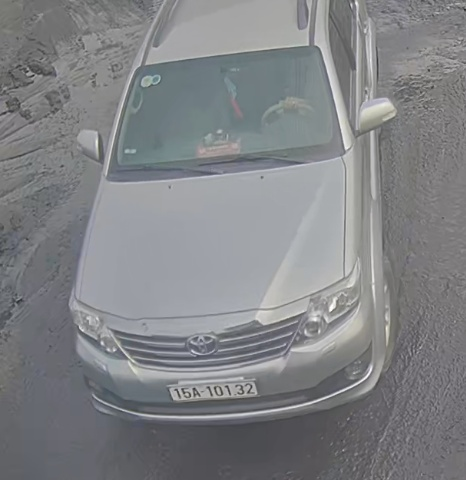vehicle plate: (161, 376, 266, 407)
